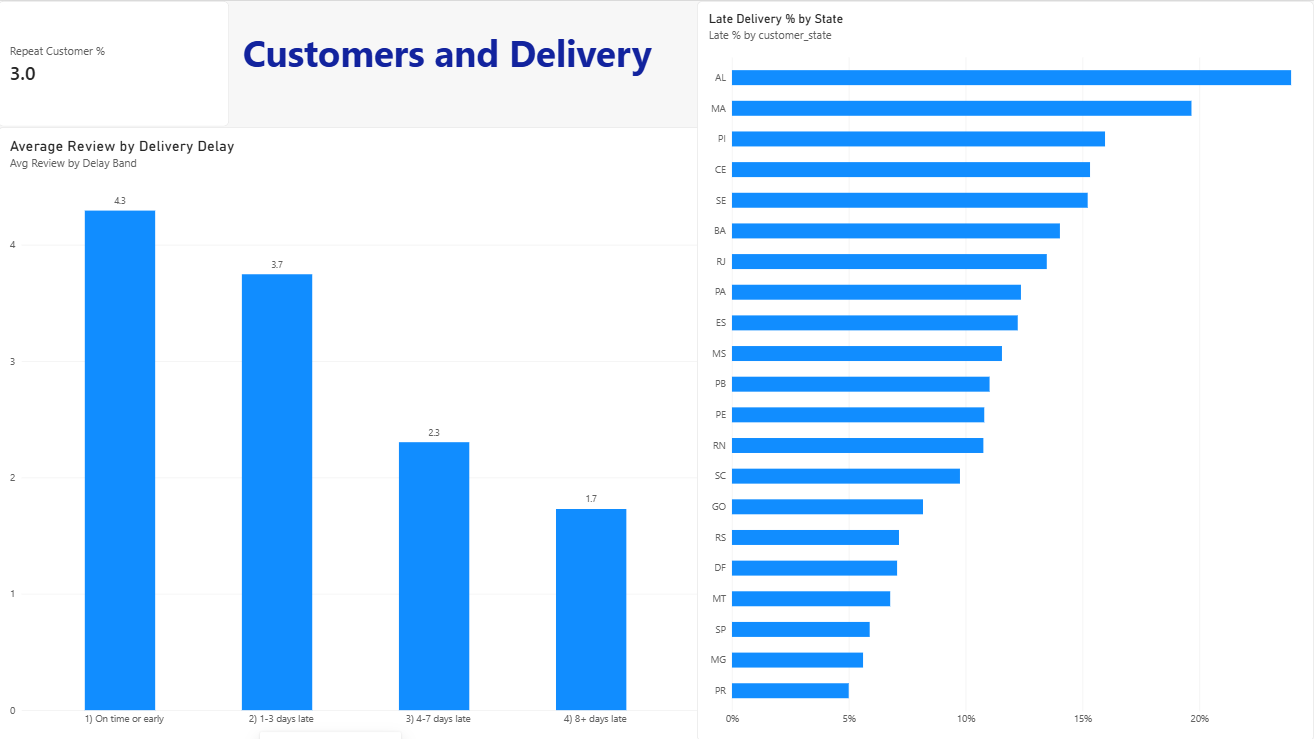

This screenshot's page, from the dashboard's own definition file:
{"tool":"powerbi","page":{"name":"Customers and Delivery","canvas":[1920,1080],"ordinal":1},"visuals":[{"type":"clusteredColumnChart","title":"Average  Review by Delivery Delay","fields":{"Category":["fact_orders.Delay Band"],"Y":["fact_orders.Avg Review"]},"box":[0,183.8,1037.3,895.8],"z":0},{"type":"clusteredBarChart","title":"Late Delivery % by State","fields":{"Category":["fact_orders.customer_state"],"Y":["fact_orders.Late %"]},"box":[1019.8,0,900.2,1079.6],"z":1000},{"type":"cardVisual","title":"Repeat Customer %","fields":{"Data":["fact_orders.Repeat Customer %"]},"box":[0,0,337,183.8],"z":2000},{"type":"textbox","box":[194.2,0,922.2,183.4],"z":3000}]}

Visuals, with their boxes in screenshot pixels (x1, y1, x2, y2), scaled from the page's 1920x1080 canvas onto the 1314x739 screenshot:
"Average  Review by Delivery Delay" clusteredColumnChart: {"left": 0, "top": 126, "right": 710, "bottom": 738}
"Late Delivery % by State" clusteredBarChart: {"left": 698, "top": 0, "right": 1313, "bottom": 738}
"Repeat Customer %" cardVisual: {"left": 0, "top": 0, "right": 231, "bottom": 126}
textbox: {"left": 133, "top": 0, "right": 764, "bottom": 125}
